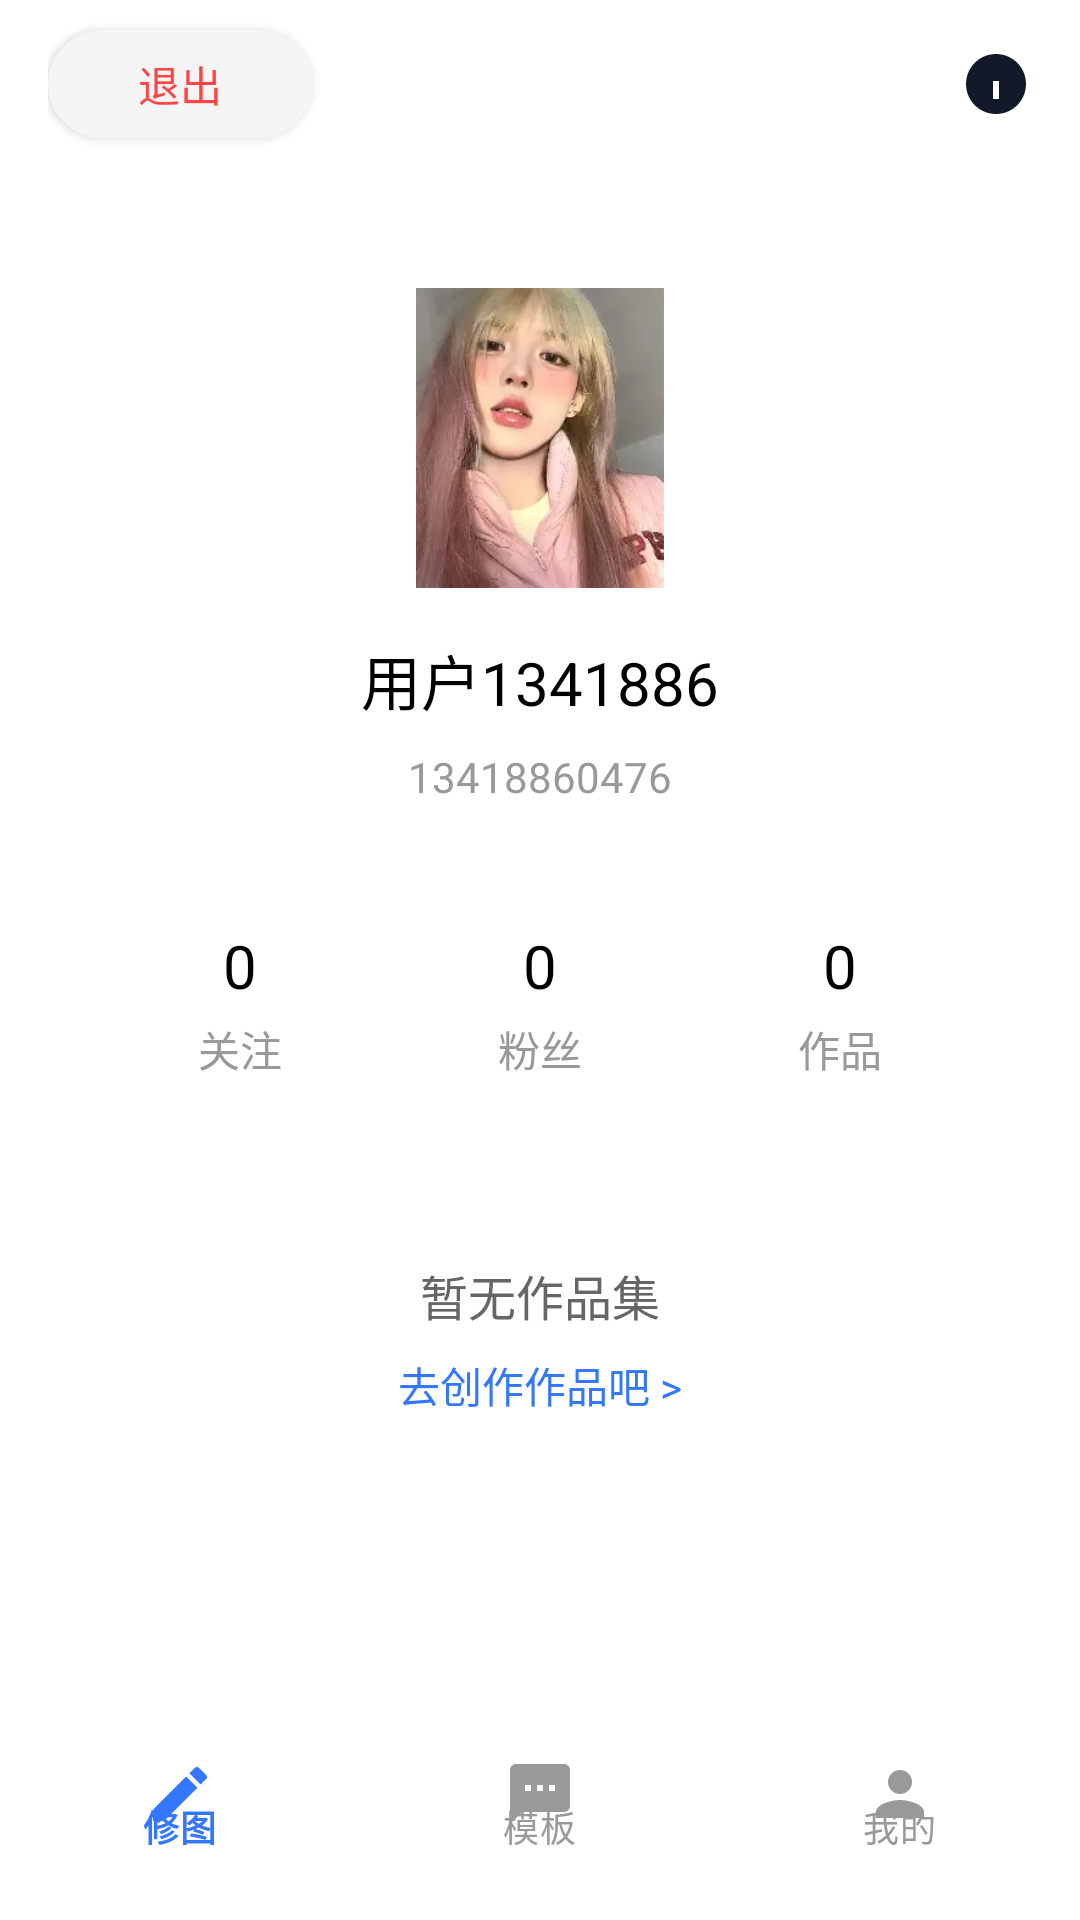

Icons on this 1080 x 1920 Android screen, each with its box as (x1, y1, x2, y2):
帮助: (966, 54, 1026, 114)
